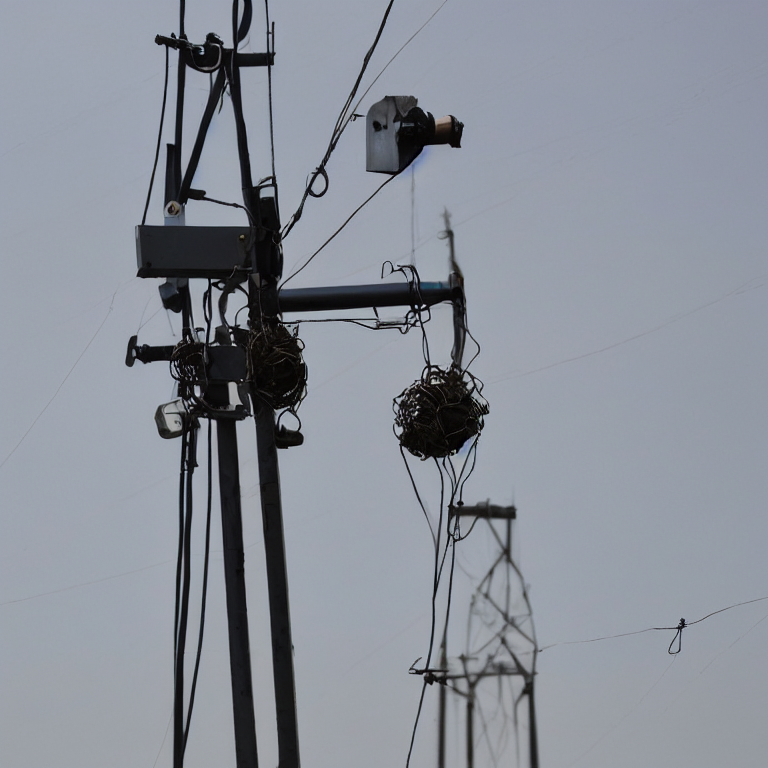nest: (399, 367, 486, 456), (246, 322, 309, 407)
